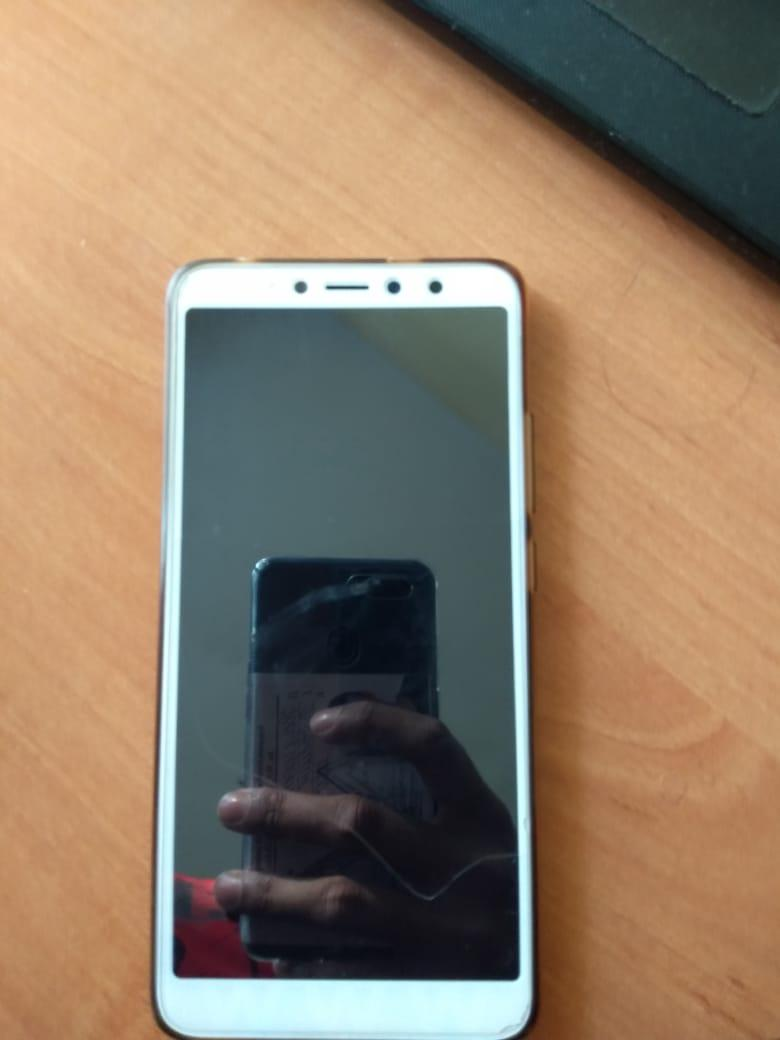Phone: (117, 229, 559, 1040)
